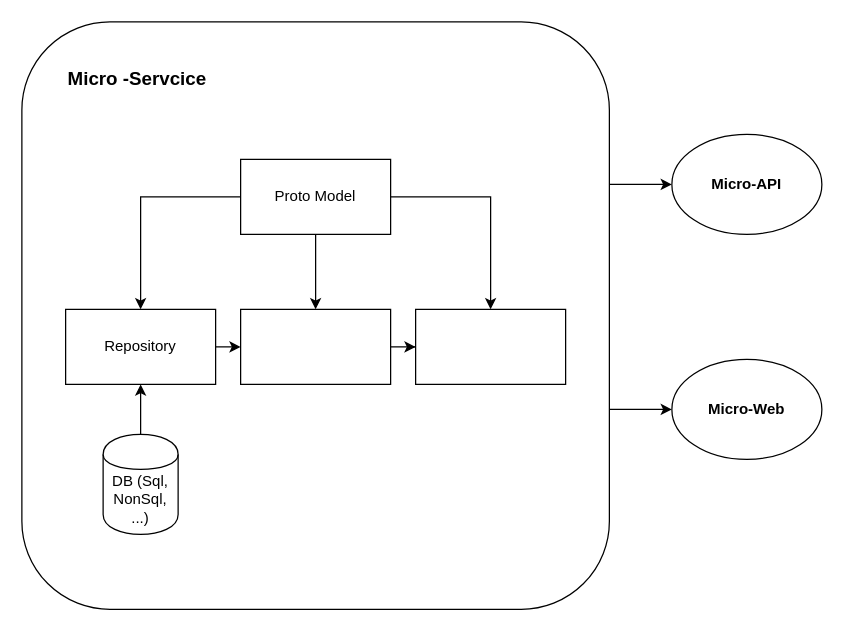
This 844x631 diagram has some shape labels left out. Here are the shapes that lost their labels. From the top down, the centre of each, then its label:
At pixel 315 346: "Usecase (Business Logic)".
At pixel 490 346: "Handler".
